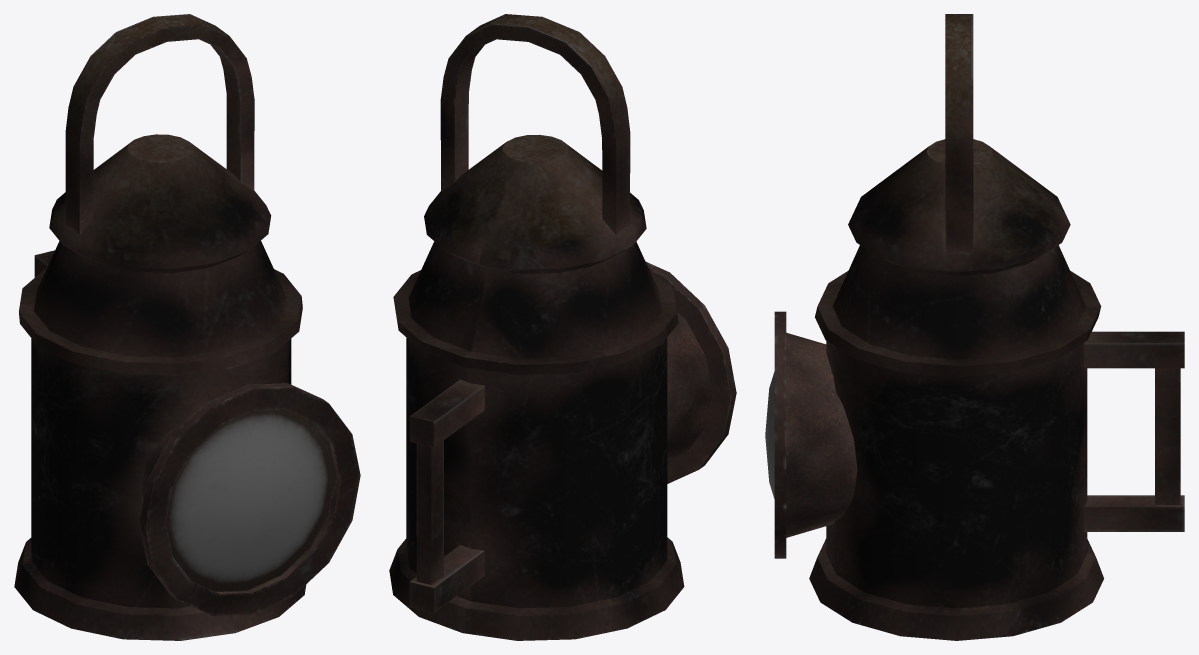
The model's file is Lamp.fbx.
3 renders of one model, left to right at view 1: azimuth 30°, elevation 25°; view 2: azimuth 150°, elevation 25°; view 3: azimuth 270°, elevation 25°, orthographic.
Visible parts, largest first — view 1: Cylinder.001; view 2: Cylinder.001; view 3: Cylinder.001.
Part boxes in pixels (x1=…): Cylinder.001: x1=14, y1=14, x2=360, y2=640; Cylinder.001: x1=389, y1=14, x2=736, y2=640; Cylinder.001: x1=765, y1=14, x2=1184, y2=640.
Bounding box in the file's own units: 24.97 × 51.61 × 35.5.
2 materials, 2 textured.
